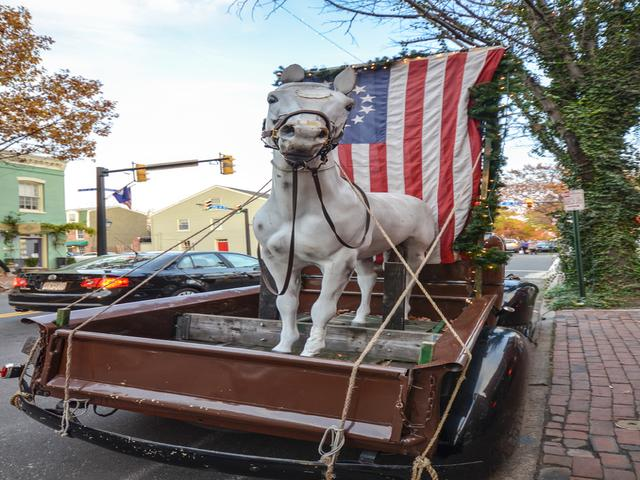horse: (186, 40, 473, 348)
